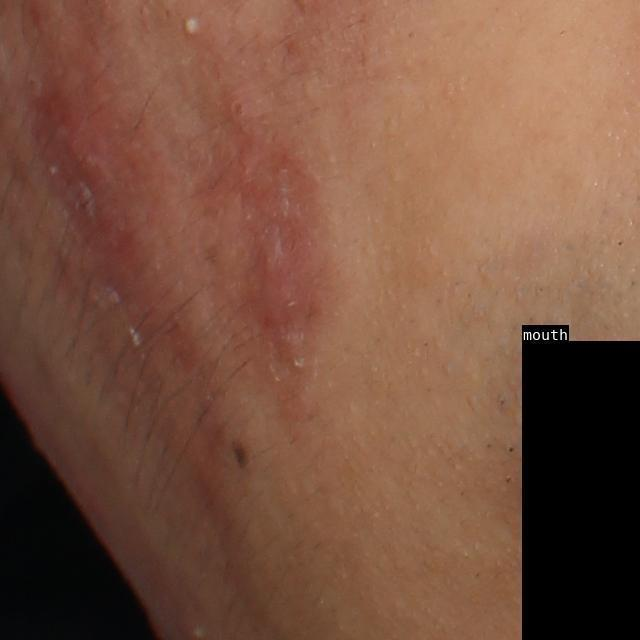nevus: (232, 437, 250, 471)
pustule: (172, 5, 211, 43)
